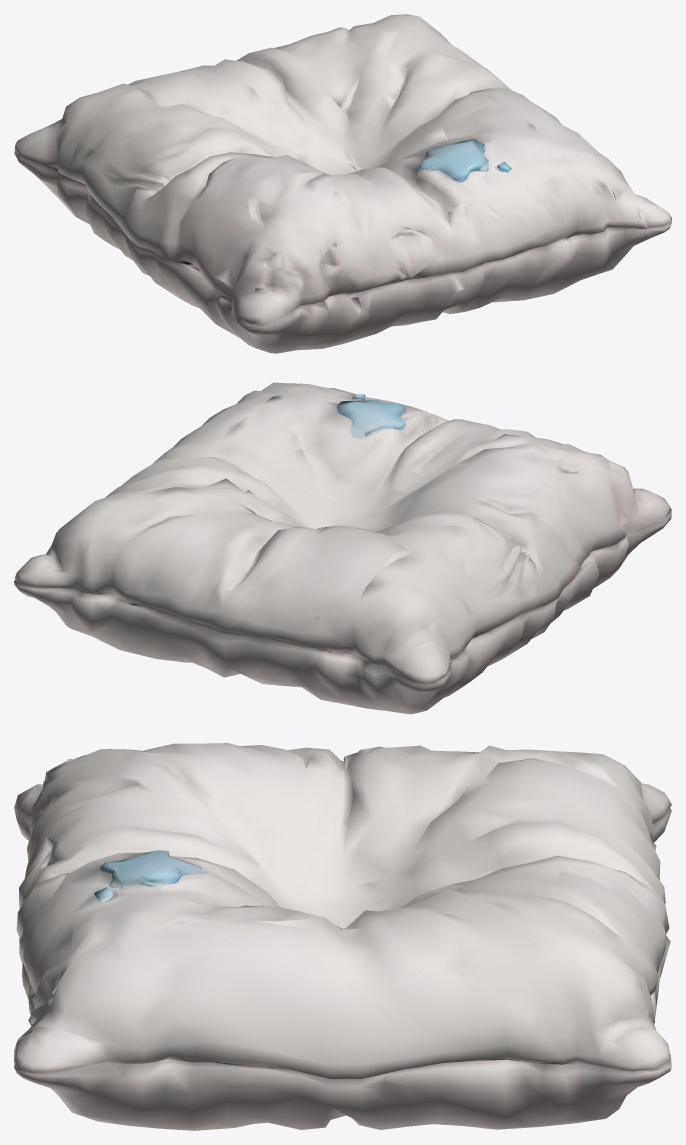
Rendered from yastik1.glb.
3 renders of one model, top to bottom at view 1: azimuth 30°, elevation 25°; view 2: azimuth 150°, elevation 25°; view 3: azimuth 270°, elevation 25°, orthographic. The views are drawn at different scales.
Visible parts, largest first — view 1: Yastik_Mesh; view 2: Yastik_Mesh; view 3: Yastik_Mesh.
Boxes of the visible parts, left/top/right/bottom form: Yastik_Mesh: left=14, top=14, right=671, bottom=353; Yastik_Mesh: left=14, top=382, right=671, bottom=714; Yastik_Mesh: left=14, top=743, right=671, bottom=1130.
Bounding box in the file's own units: 0.9776 × 0.3539 × 0.9776.
Materials: 1 (1 with a texture image).
